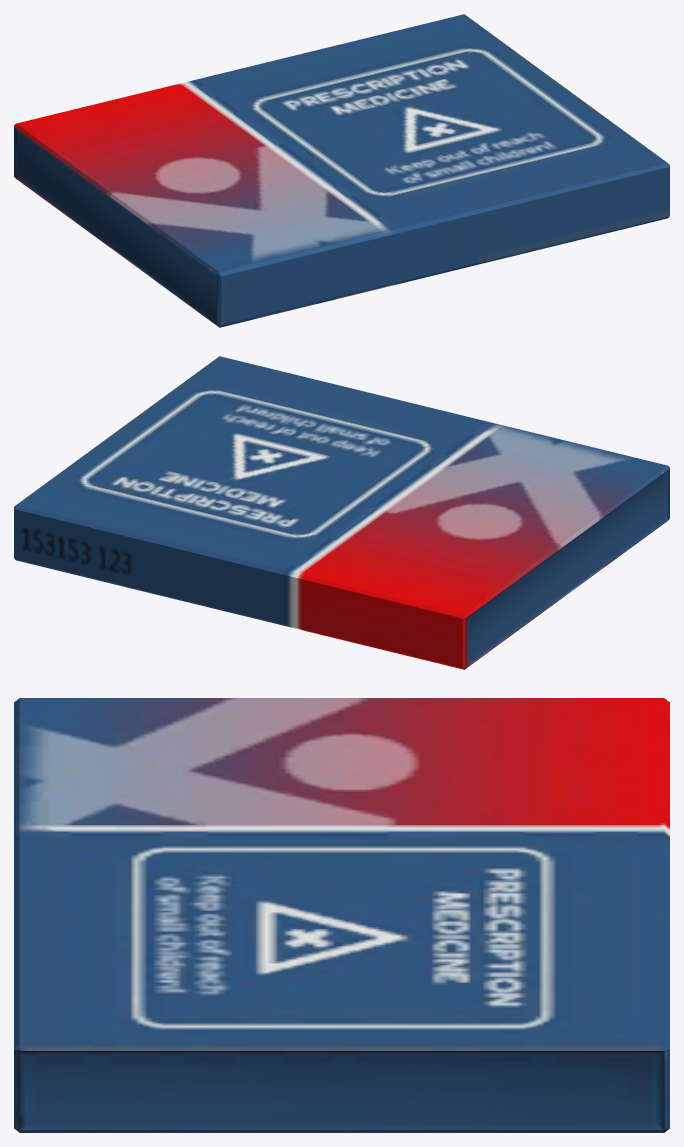
The model's file is medicine_tabletpack_aplra.DAE.
3 renders of one model, top to bottom at view 1: azimuth 30°, elevation 25°; view 2: azimuth 150°, elevation 25°; view 3: azimuth 270°, elevation 25°, orthographic. The views are drawn at different scales.
Parts seen in each view (by area): view 1: medicine_tabletpack_aplra; view 2: medicine_tabletpack_aplra; view 3: medicine_tabletpack_aplra.
Part boxes in pixels (<box>): medicine_tabletpack_aplra: <box>14,14,669,327</box>; medicine_tabletpack_aplra: <box>14,356,669,669</box>; medicine_tabletpack_aplra: <box>14,698,669,1132</box>.
Bounding box in the file's own units: 0.252 × 0.0295 × 0.1995.
